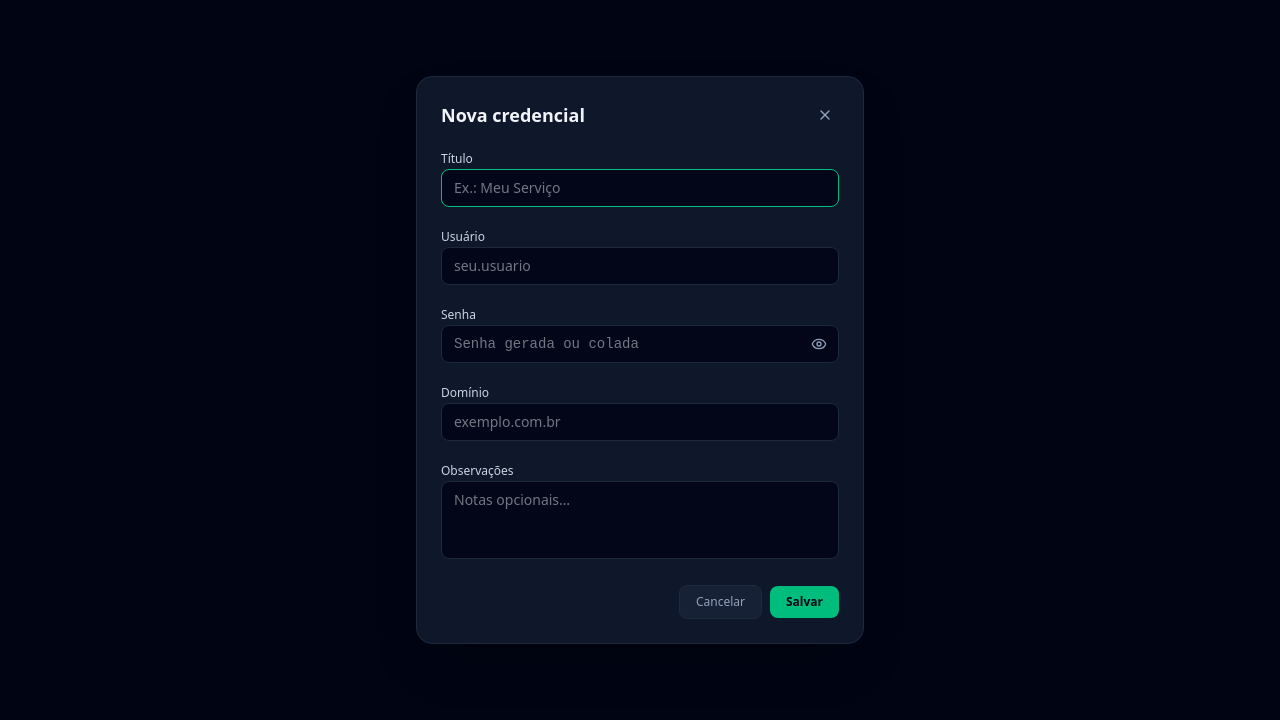
Scenario: EntryModal: criação › mede a força da senha enquanto o usuário digita
This screenshot has width=1280, height=720.
Type "aaaa" into the password field labelled "Senha" at (640, 344), box [441, 325, 839, 363]
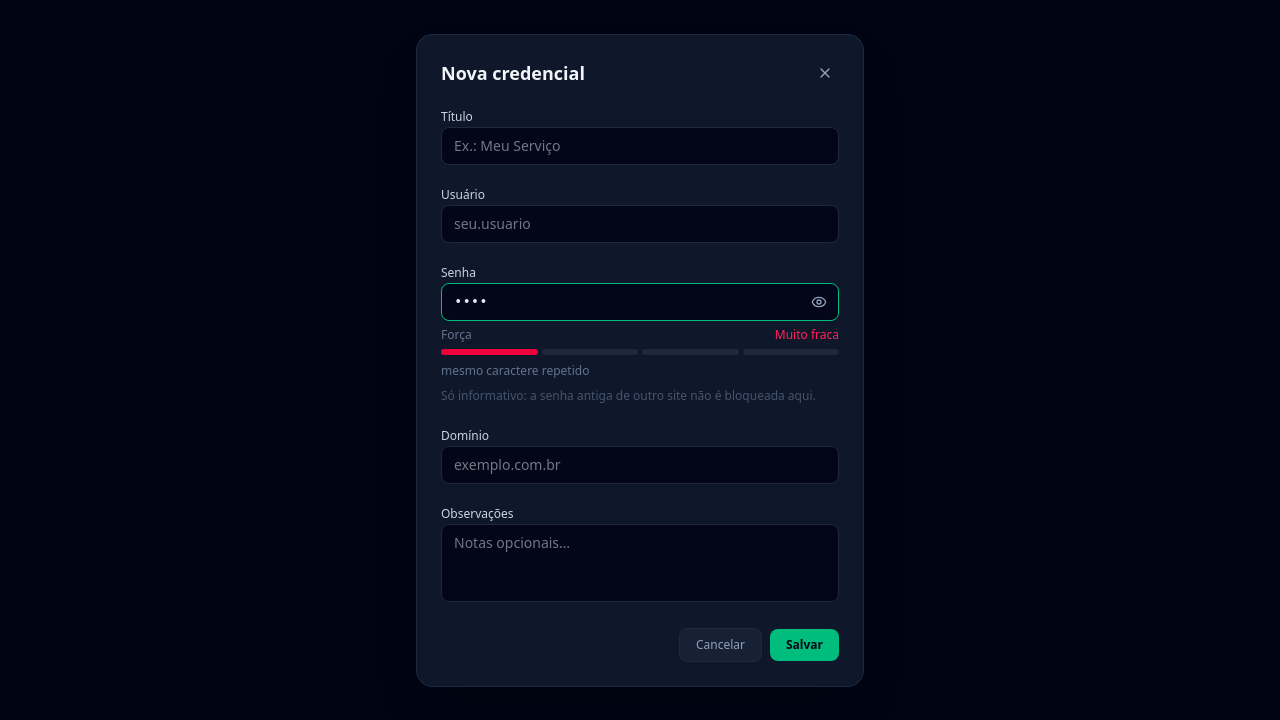
Result: the text "Muito fraca" is shown at [775, 326, 839, 342]
